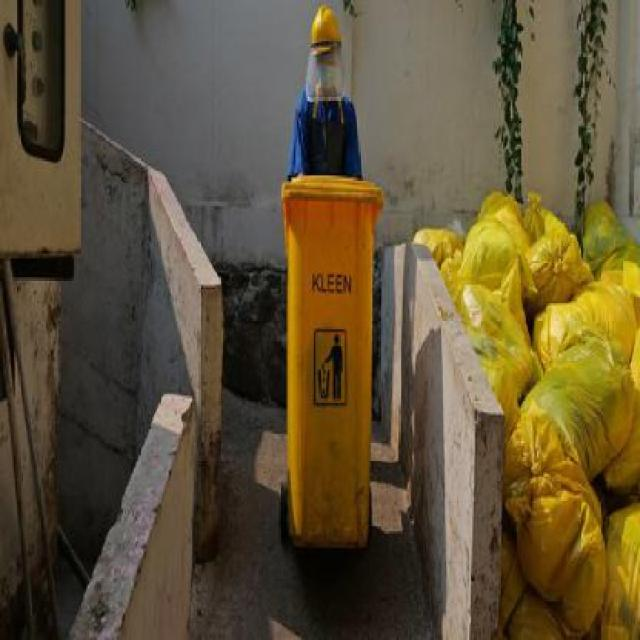garbage container: (273, 165, 390, 567)
